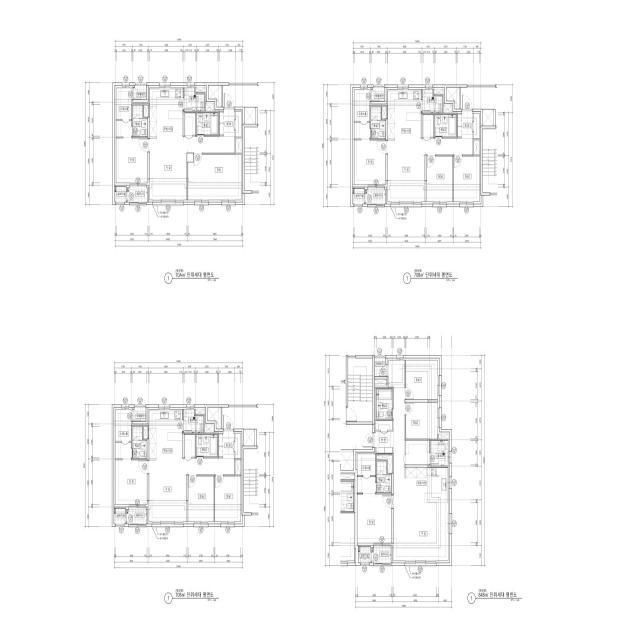space_balconi: (422, 90, 443, 113), (184, 88, 204, 111), (184, 410, 204, 433), (430, 441, 448, 466), (365, 188, 386, 204), (372, 546, 391, 563), (127, 186, 147, 202), (127, 508, 147, 524)
space_bedroom: (188, 154, 241, 200), (357, 494, 391, 543), (116, 138, 148, 183), (354, 140, 386, 185), (116, 460, 147, 505), (406, 360, 438, 400), (188, 476, 214, 522), (427, 156, 453, 202), (215, 476, 241, 522), (406, 403, 438, 439), (454, 156, 479, 202)
space_dressroom: (116, 88, 132, 137), (354, 90, 370, 139), (357, 454, 376, 493), (116, 410, 131, 459)
space_front: (219, 109, 241, 137), (457, 110, 473, 138), (219, 430, 234, 458), (374, 432, 393, 454)
space_kitchen: (149, 410, 183, 459), (388, 90, 421, 139), (150, 88, 183, 137), (405, 468, 448, 503)
space_living_room: (389, 360, 448, 561), (388, 138, 473, 202), (149, 458, 234, 522), (150, 137, 235, 200)
space_other: (406, 441, 429, 465), (208, 86, 222, 107), (446, 88, 460, 109), (208, 407, 221, 429), (377, 455, 392, 473), (184, 434, 195, 457), (423, 115, 434, 137), (185, 113, 196, 135), (375, 358, 387, 376), (371, 87, 385, 101), (244, 429, 255, 446), (133, 407, 146, 421), (483, 109, 493, 126), (133, 86, 146, 99), (376, 420, 392, 430), (245, 108, 255, 124), (235, 433, 241, 458), (474, 114, 479, 139), (235, 460, 241, 475), (236, 138, 242, 153), (474, 140, 479, 155), (443, 105, 452, 113), (375, 379, 387, 385), (205, 103, 214, 111), (205, 425, 213, 433), (143, 427, 148, 439), (195, 409, 205, 415), (382, 107, 387, 119), (434, 89, 443, 95), (144, 105, 148, 117), (439, 434, 448, 439), (196, 88, 205, 93)
space_outdoor_room: (358, 547, 371, 563), (114, 508, 126, 524), (353, 188, 364, 204), (115, 186, 126, 202)
space_staircase: (348, 358, 372, 422)
space_toilet: (196, 434, 218, 457), (133, 105, 148, 137), (376, 389, 392, 419), (132, 427, 147, 459), (371, 107, 386, 139), (435, 115, 456, 137), (197, 113, 218, 135), (377, 461, 391, 493)
